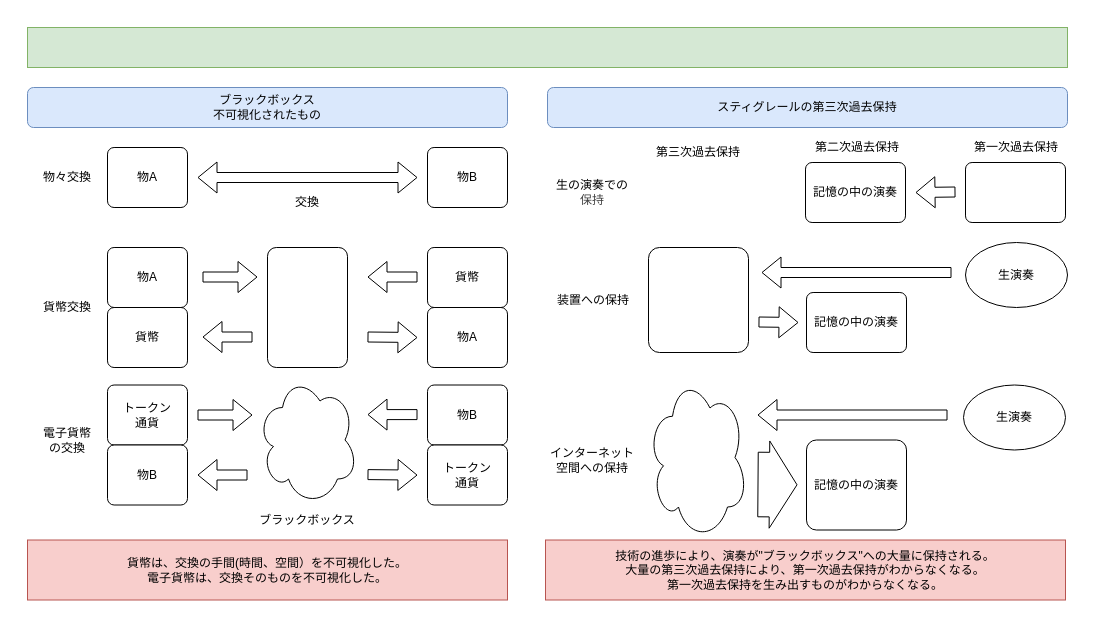
Some shapes in this 1094 by 624 pixel diagram are drawn without their labels. Each missing label, with the centre of its shape:
トークン 交換所: the point at 307,439
レコード・CD: the point at 698,299
市場: the point at 307,307
書物と貨幣の五千年史 ブラックボックスと保持: the point at 547,47
生演奏の印象: the point at 1015,192
音楽配信 サイト: the point at 697,457
